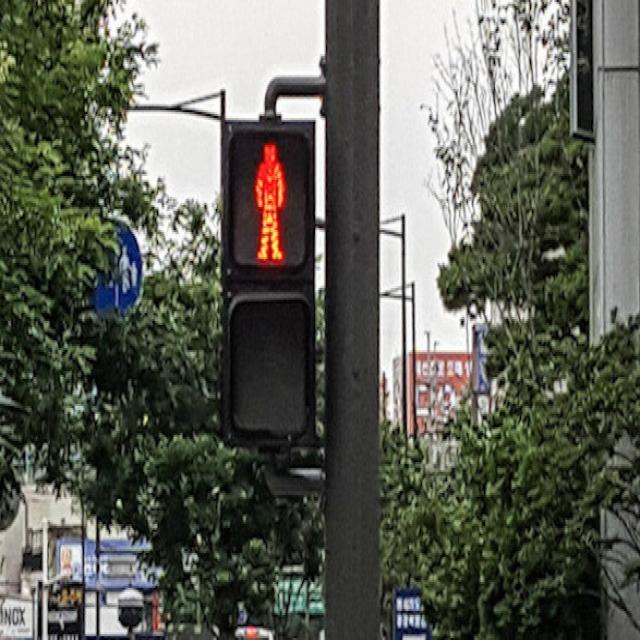red_light: (243, 139, 294, 267)
